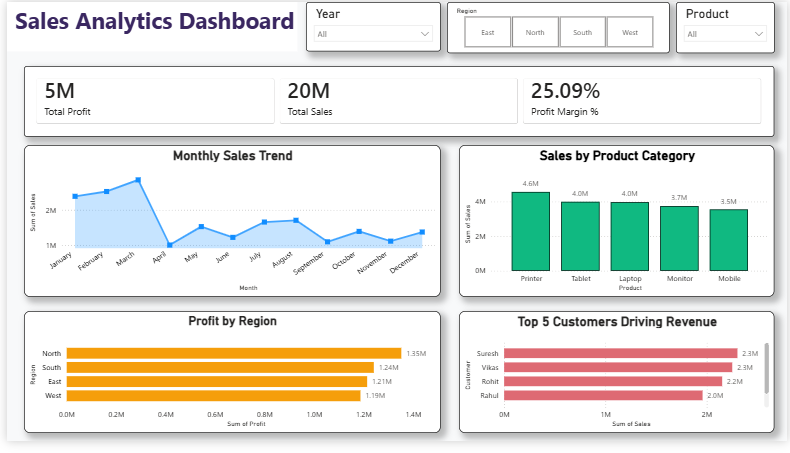

What the dashboard file says about the page in this screenshot:
{"tool":"powerbi","page":{"name":"Page 1","canvas":[1280,720],"ordinal":0},"visuals":[{"type":"cardVisual","fields":{"Data":["Sum(public sales.Profit)","Sum(public sales.Sales)","Avg(public sales.% of Profit on Sales)"]},"box":[28.6,104.8,1230.2,115.9],"z":0},{"type":"lineChart","title":"Monthly Sales Trend","fields":{"Category":["public sales.Order_Date.Variation.Date Hierarchy.Month"],"Y":["Sum(public sales.Sales)"]},"box":[28.6,234.9,682.5,249.2],"z":1000},{"type":"barChart","title":"Profit by Region","fields":{"Category":["public sales.Region"],"Y":["Sum(public sales.Profit)"]},"box":[28.6,506.3,682.5,200],"z":2000},{"type":"columnChart","title":"Sales by Product Category","fields":{"Category":["public sales.Product"],"Y":["Sum(public sales.Sales)"]},"box":[741.3,234.9,517.5,249.2],"z":3000},{"type":"slicer","fields":{"Values":["public sales.Order_Date.Variation.Date Hierarchy.Year"]},"box":[490.5,0,220.9,80.6],"z":4000},{"type":"slicer","fields":{"Values":["public sales.Region"]},"box":[720.6,0,365.1,84.1],"z":5000},{"type":"textbox","box":[0,0,476.2,81],"z":6000},{"type":"barChart","title":"Top 5 Customers Driving Revenue","fields":{"Category":["public sales.Customer"],"Y":["Sum(public sales.Sales)"]},"box":[741.3,506.3,517.5,200],"z":7000},{"type":"slicer","fields":{"Values":["public sales.Product"]},"box":[1096.8,0,161.9,84.1],"z":7001}]}

Visuals, with their boxes in screenshot pixels (x1, y1, x2, y2), scaled from the page's 1280x720 canvas onto the 790x453 screenshot:
cardVisual - Sum(public sales.Profit) x Sum(public sales.Sales): <region>18, 66, 777, 139</region>
"Monthly Sales Trend" lineChart: <region>18, 148, 439, 305</region>
"Profit by Region" barChart: <region>18, 319, 439, 444</region>
"Sales by Product Category" columnChart: <region>458, 148, 777, 305</region>
slicer - public sales.Order_Date.Variation.Date Hierarchy.Year: <region>303, 0, 439, 51</region>
slicer - public sales.Region: <region>445, 0, 670, 53</region>
textbox: <region>0, 0, 294, 51</region>
"Top 5 Customers Driving Revenue" barChart: <region>458, 319, 777, 444</region>
slicer - public sales.Product: <region>677, 0, 777, 53</region>
